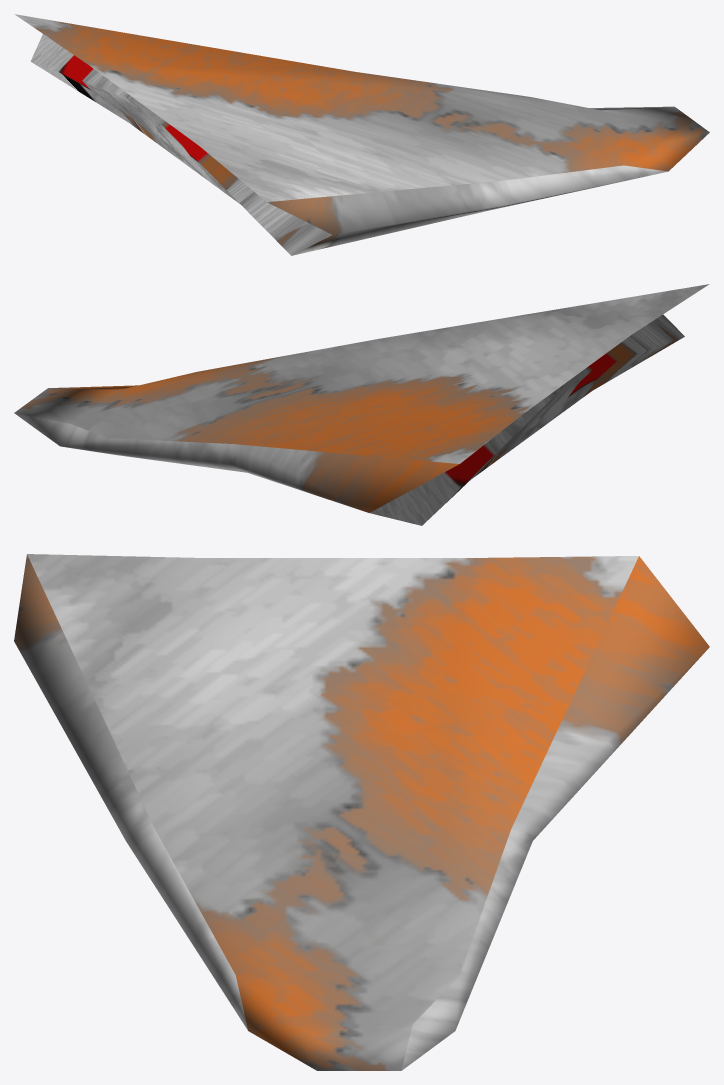
Rendered from G35hopperDestructionPart3.fbx.
The picture shows the model from 3 angles, top to bottom: view 1: azimuth 30°, elevation 25°; view 2: azimuth 150°, elevation 25°; view 3: azimuth 270°, elevation 25°; orthographic projection. The views are drawn at different scales.
Visible parts, largest first — view 1: pCylinder1; view 2: pCylinder1; view 3: pCylinder1.
Boxes of the visible parts, x1=… form: pCylinder1: x1=14, y1=14, x2=709, y2=255; pCylinder1: x1=14, y1=284, x2=709, y2=525; pCylinder1: x1=14, y1=554, x2=709, y2=1070.
Size of the model in its own units: 7.38 by 2.08 by 6.59.
Materials: 1 (1 with a texture image).
